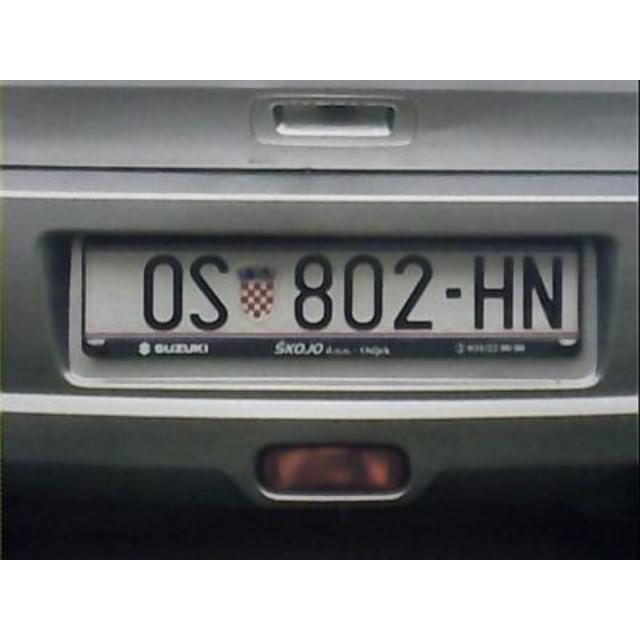plate: (72, 237, 582, 335)
